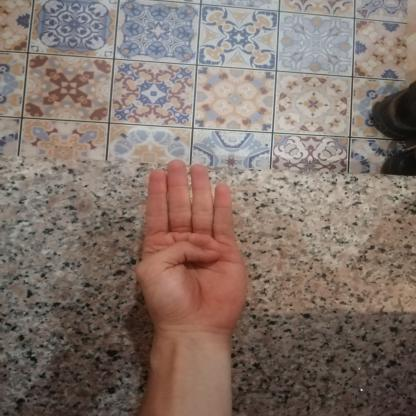KAAF: (118, 152, 269, 344)
